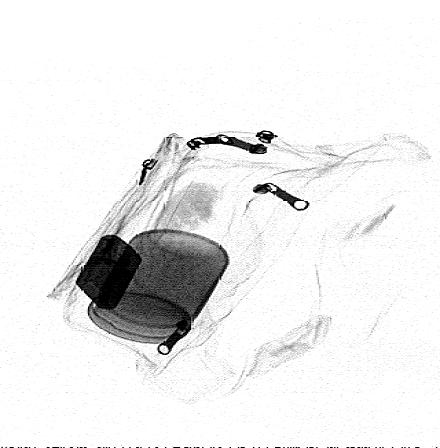Lighter: (74, 234, 144, 311)
